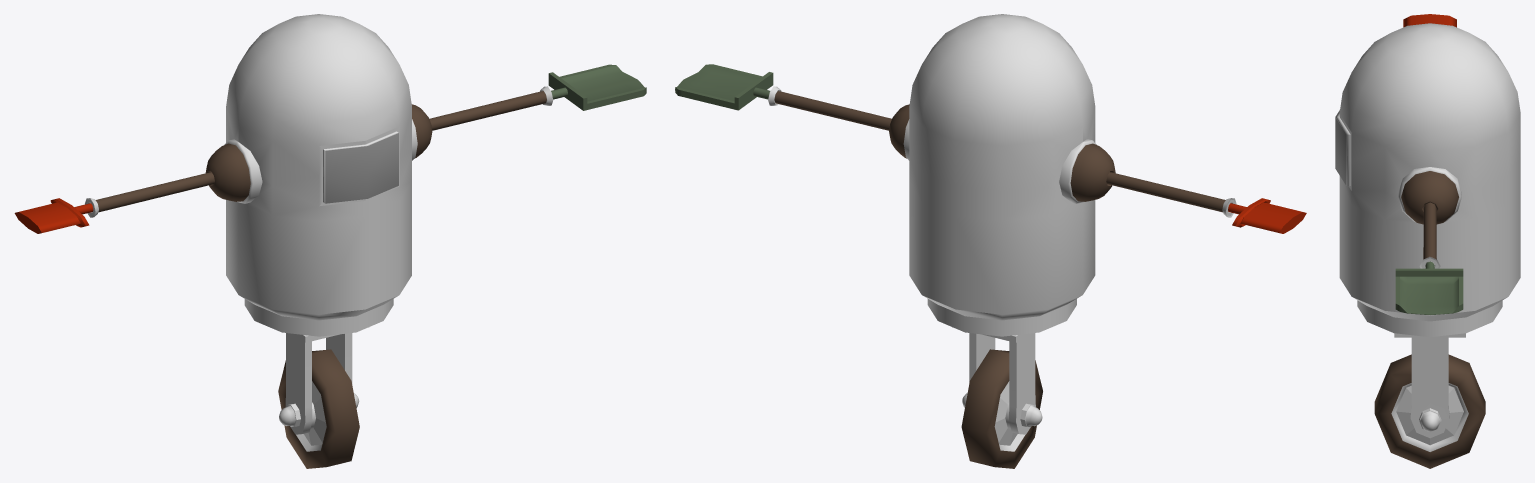
Rendered from SM_CleaningBot.fbx.
3 renders of one model, left to right at view 1: azimuth 30°, elevation 25°; view 2: azimuth 150°, elevation 25°; view 3: azimuth 270°, elevation 25°, orthographic. The views are drawn at different scales.
Parts seen in each view (by area): view 1: CleaningBot; view 2: CleaningBot; view 3: CleaningBot.
Part boxes in pixels (x1,y1,x2,y2): CleaningBot: [14, 14, 646, 468]; CleaningBot: [675, 14, 1306, 468]; CleaningBot: [1335, 14, 1520, 468].
Bounding box in the file's own units: 180 × 125 × 48.69.
